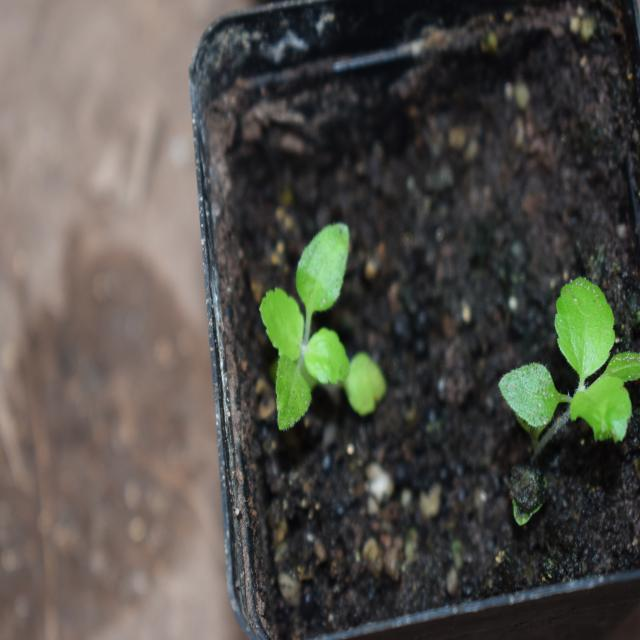billygoat_weed: (245, 190, 386, 437), (488, 237, 640, 466)
